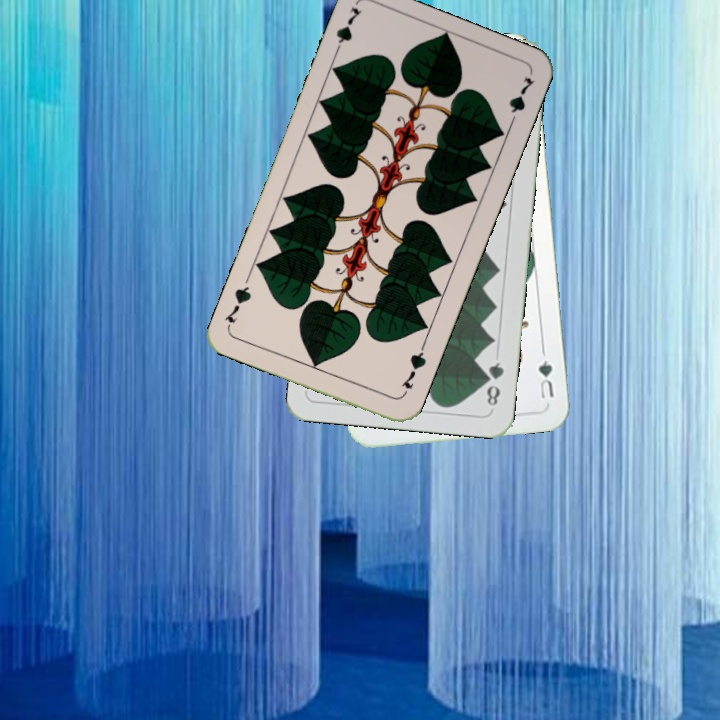G7: (329, 2, 365, 60), (397, 341, 429, 398)
G8: (481, 358, 507, 409)
GU: (534, 356, 557, 402)
